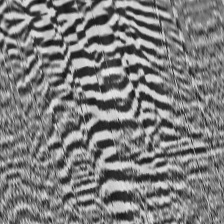cavities: (33, 1, 184, 224)
